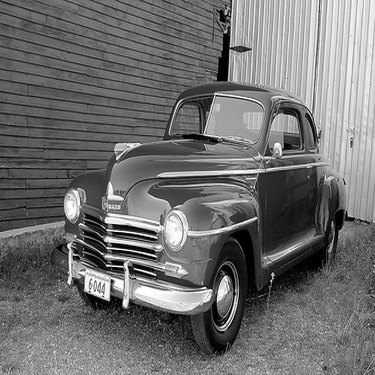car: (50, 63, 344, 356)
